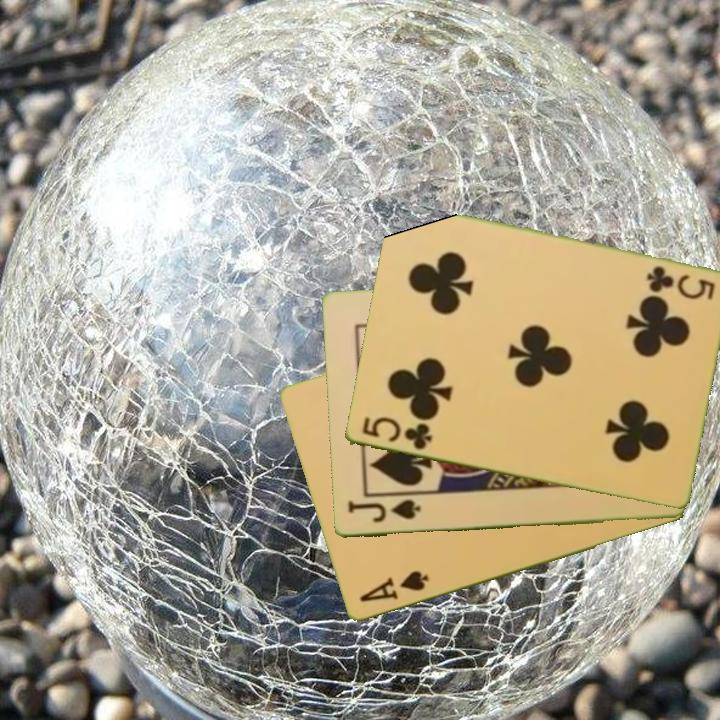5c: (358, 413, 435, 453), (642, 262, 717, 302)
As: (356, 567, 431, 606)
Js: (344, 497, 423, 526)
